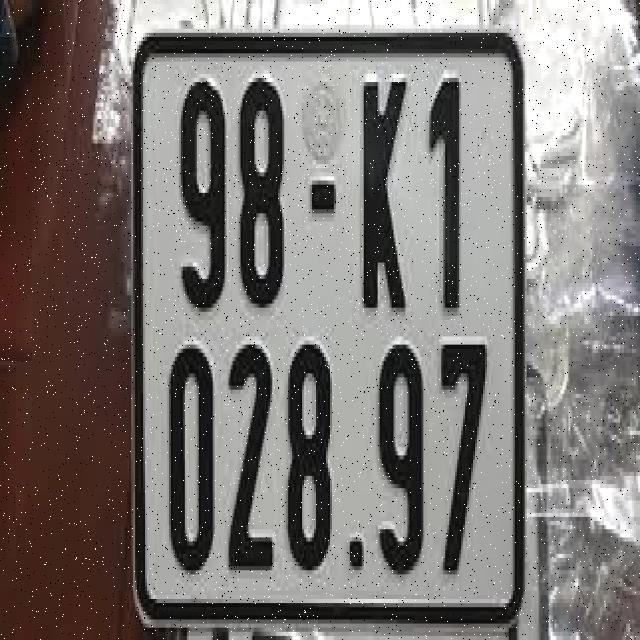0: (165, 338, 217, 576)
1: (423, 68, 469, 314)
2: (224, 332, 277, 574)
7: (434, 332, 490, 578)
8: (235, 63, 290, 314), (283, 330, 337, 576)
9: (174, 70, 229, 312), (372, 334, 427, 576)
K: (357, 63, 410, 314)
